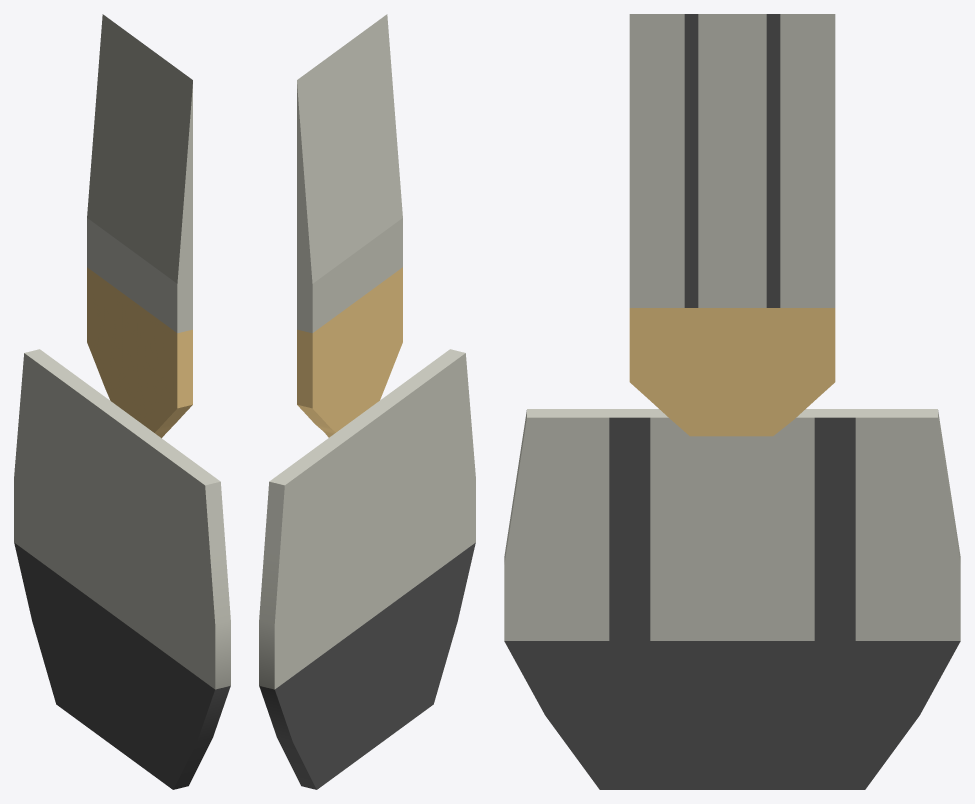
Rendered from Back.fbx.
3 views of the same model, side by side, from view 1: azimuth 30°, elevation 25°; view 2: azimuth 150°, elevation 25°; view 3: azimuth 270°, elevation 25° (orthographic). The views are drawn at different scales.
Visible parts, largest first — view 1: pPlane9; view 2: pPlane9; view 3: pPlane9.
Boxes of the visible parts, box(x1,y1,x2,y2) form: pPlane9: box(14, 14, 230, 789); pPlane9: box(259, 14, 475, 789); pPlane9: box(504, 14, 960, 789).
Bounding box in the file's own units: 0.2121 × 4.22 × 2.22.
